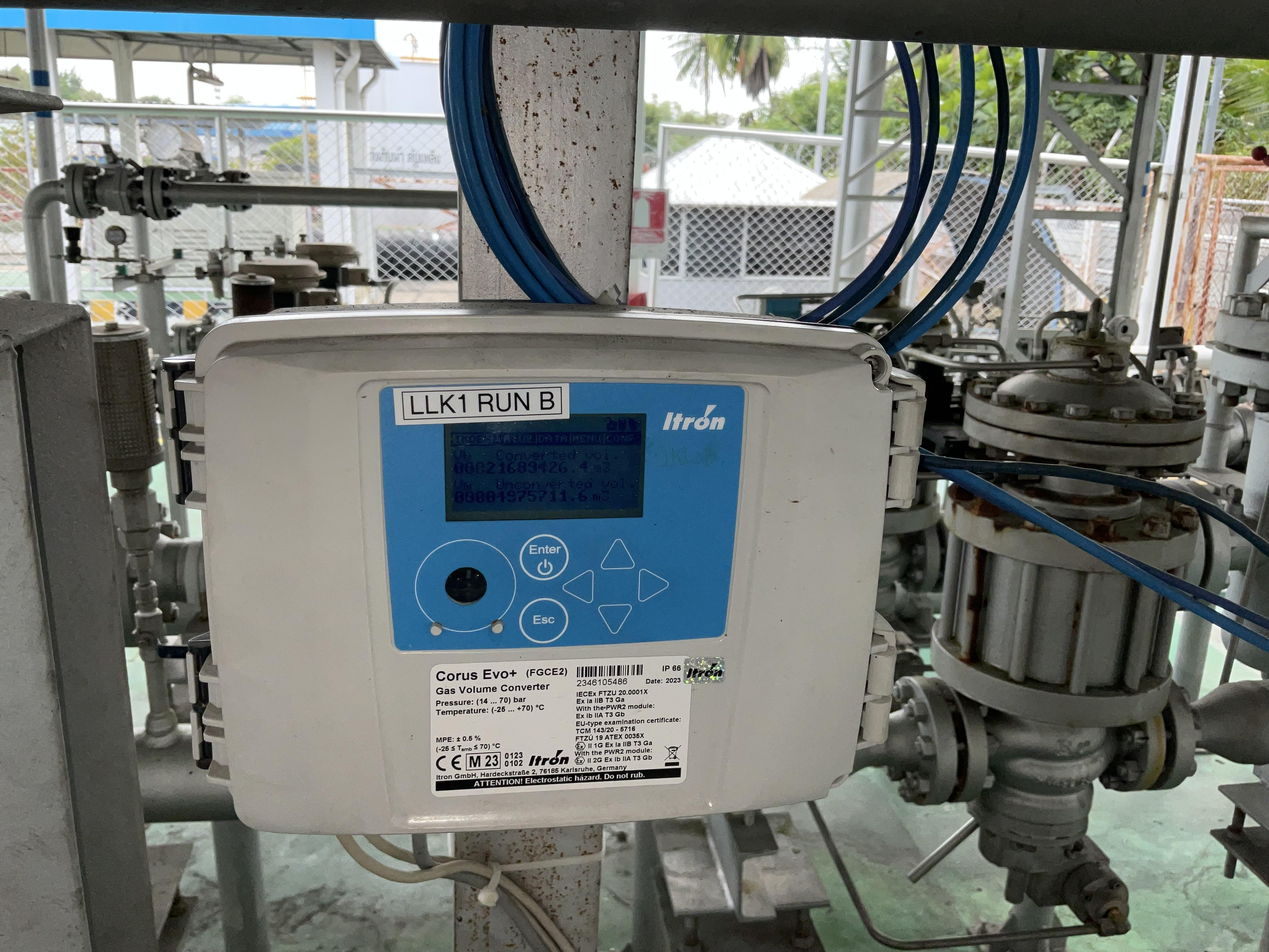digital_screen: (445, 414, 648, 521)
